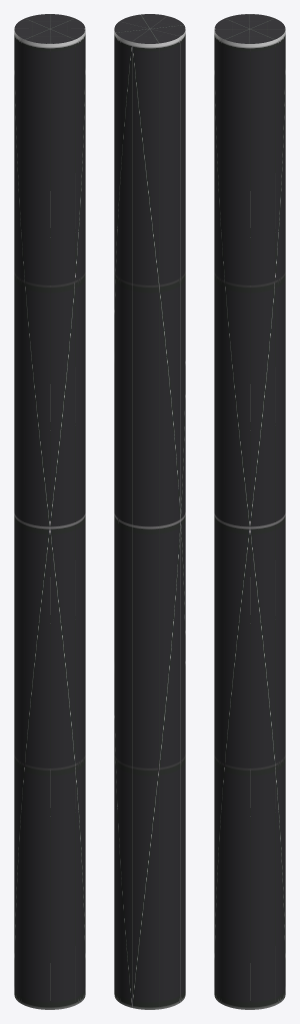
Rendered from light_lamppost.glb.
The picture shows the model from 3 angles, left to right: view 1: azimuth 90°, elevation 25°; view 2: azimuth 150°, elevation 25°; view 3: azimuth 270°, elevation 25°; orthographic projection.
Visible parts, largest first — view 1: MeshInstance3D; view 2: MeshInstance3D; view 3: MeshInstance3D.
Boxes of the visible parts, x1,y1,x2,y2 form: MeshInstance3D: (14, 14, 85, 1009); MeshInstance3D: (114, 14, 185, 1009); MeshInstance3D: (214, 14, 285, 1009).
Size of the model in its own units: 0.2 by 3 by 0.2.
Materials: 1 (1 with a texture image).
